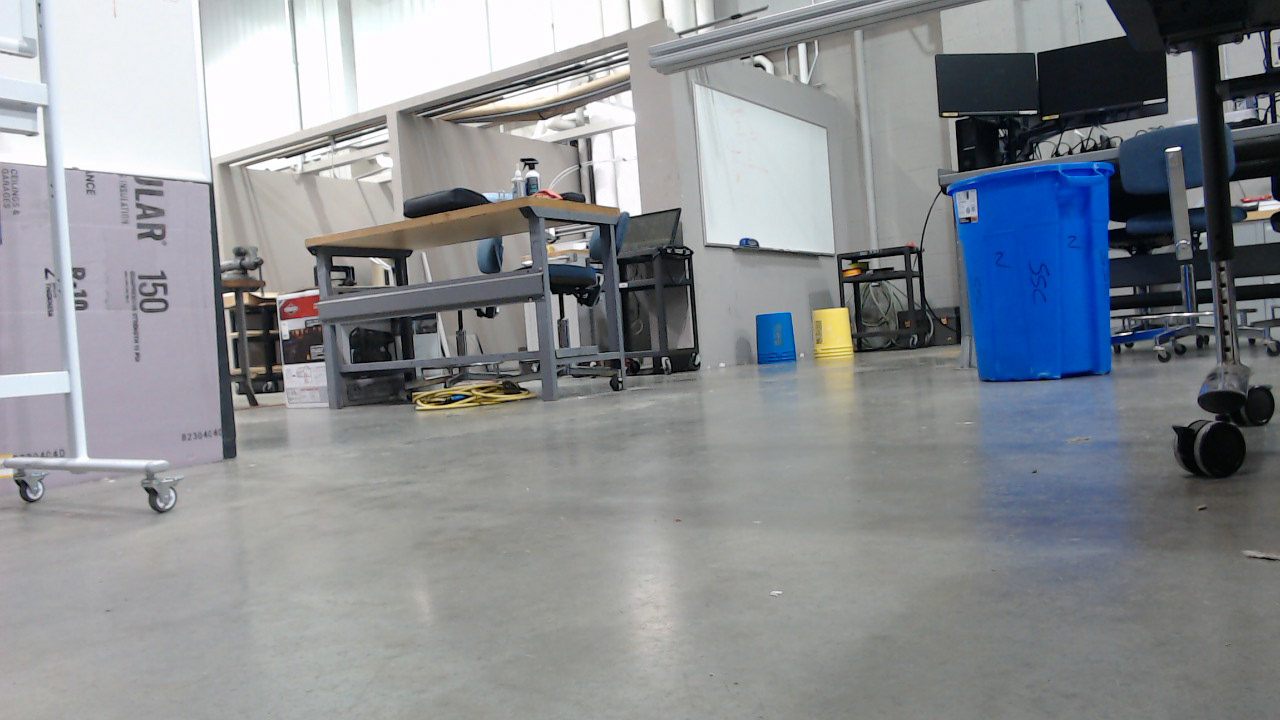blue_bucket: (758, 316, 804, 371)
yellow_bucket: (815, 310, 861, 369)
